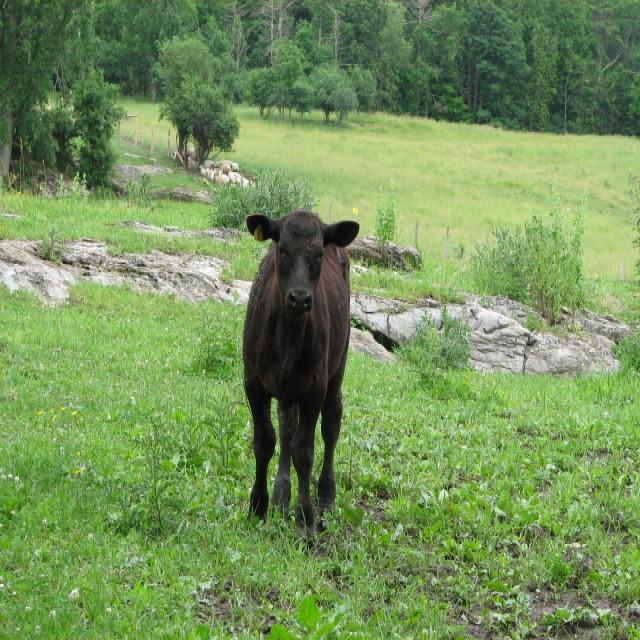cow: (244, 208, 359, 549)
